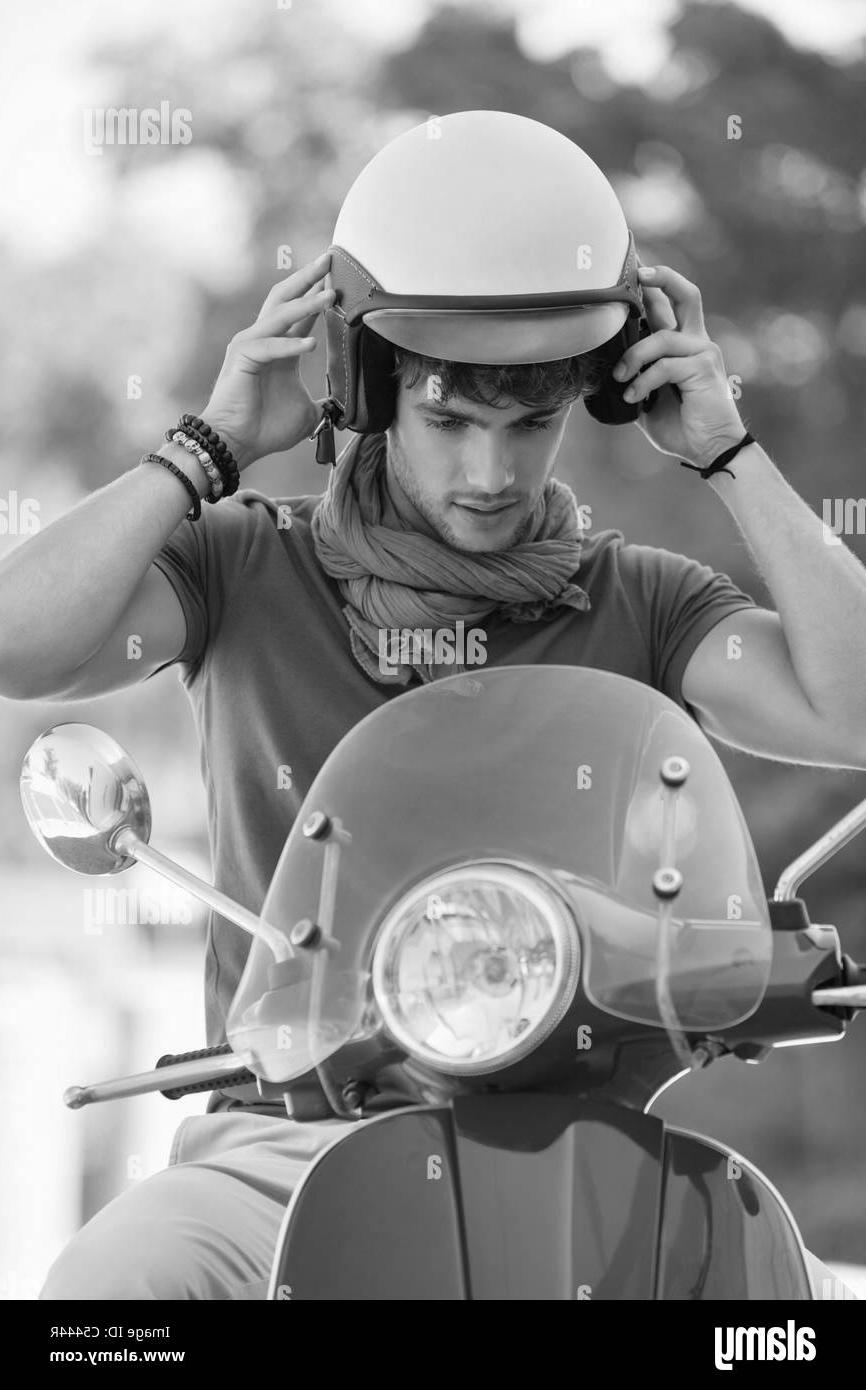Helmet: (329, 110, 633, 369)
